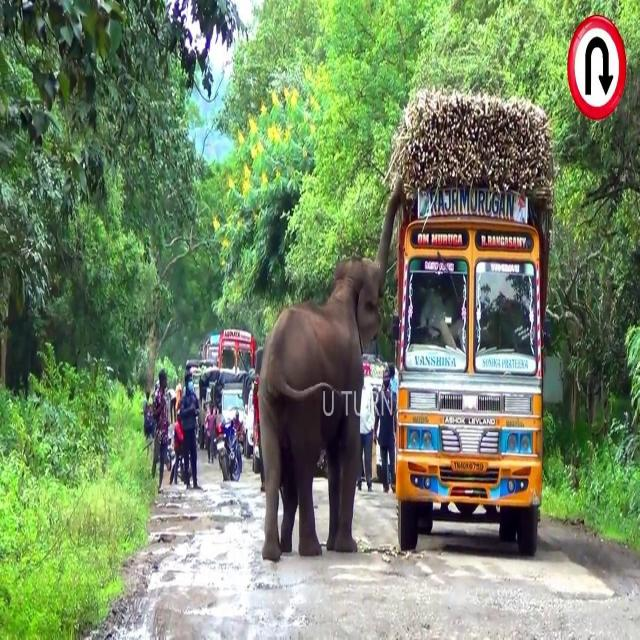Elephant: (257, 173, 405, 564)
